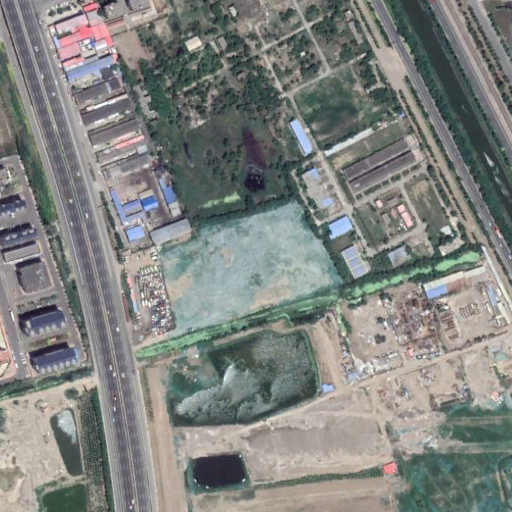cw: (158, 197, 351, 336)
